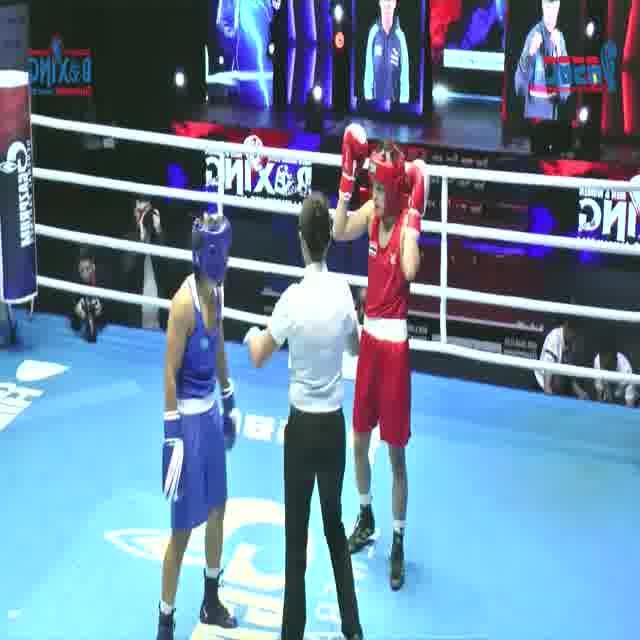blue-player: (154, 209, 242, 640)
red-player: (324, 120, 437, 596)
referee: (244, 189, 367, 640)
